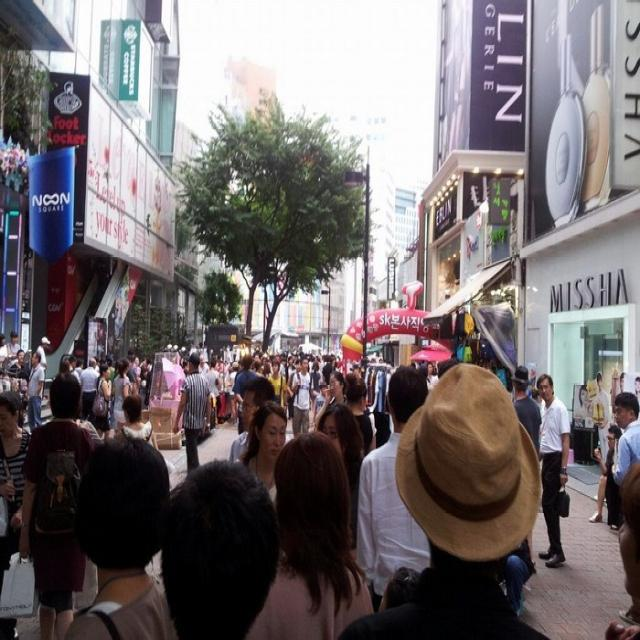body: (335, 354, 555, 640), (244, 430, 375, 640), (63, 431, 178, 640), (156, 453, 282, 639), (14, 368, 98, 639), (355, 363, 432, 618), (115, 392, 162, 584), (316, 399, 368, 558), (172, 342, 397, 378), (610, 390, 640, 627), (601, 461, 640, 639), (536, 373, 571, 571), (234, 399, 291, 507), (168, 350, 213, 477), (0, 389, 33, 529), (571, 337, 608, 457), (228, 374, 276, 463), (587, 423, 624, 524), (509, 366, 544, 467), (374, 566, 423, 635), (340, 371, 379, 457), (290, 355, 318, 450), (230, 352, 260, 438), (314, 370, 348, 430), (110, 355, 134, 440), (7, 348, 31, 429), (90, 362, 114, 441), (533, 366, 545, 510), (26, 349, 46, 434), (91, 361, 112, 440), (78, 356, 102, 422), (213, 378, 238, 436), (205, 356, 223, 427), (127, 354, 167, 384), (285, 357, 303, 422), (610, 364, 639, 404), (267, 360, 288, 407), (36, 335, 52, 394), (5, 329, 22, 373), (408, 355, 459, 369), (309, 378, 330, 408), (0, 330, 10, 392), (321, 352, 338, 388), (307, 357, 322, 395), (10, 369, 30, 394), (67, 355, 83, 386), (19, 392, 30, 437), (425, 369, 441, 399), (68, 355, 82, 385), (228, 360, 240, 391), (140, 385, 153, 410), (197, 354, 210, 376), (103, 352, 121, 366), (23, 348, 33, 370), (59, 357, 70, 373), (108, 366, 116, 384), (94, 354, 102, 369)
